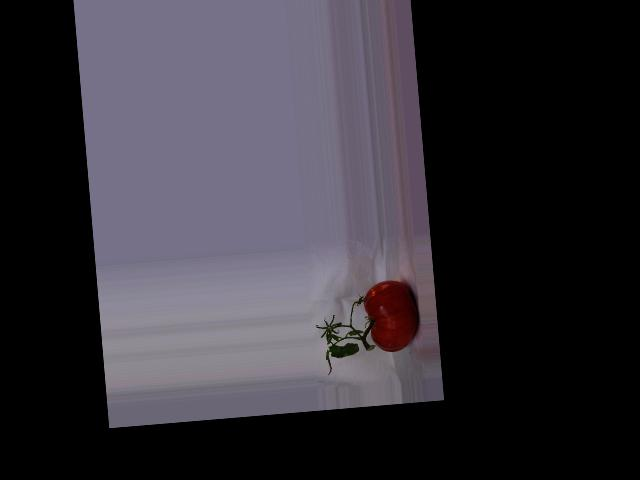tomato: (362, 278, 421, 354)
